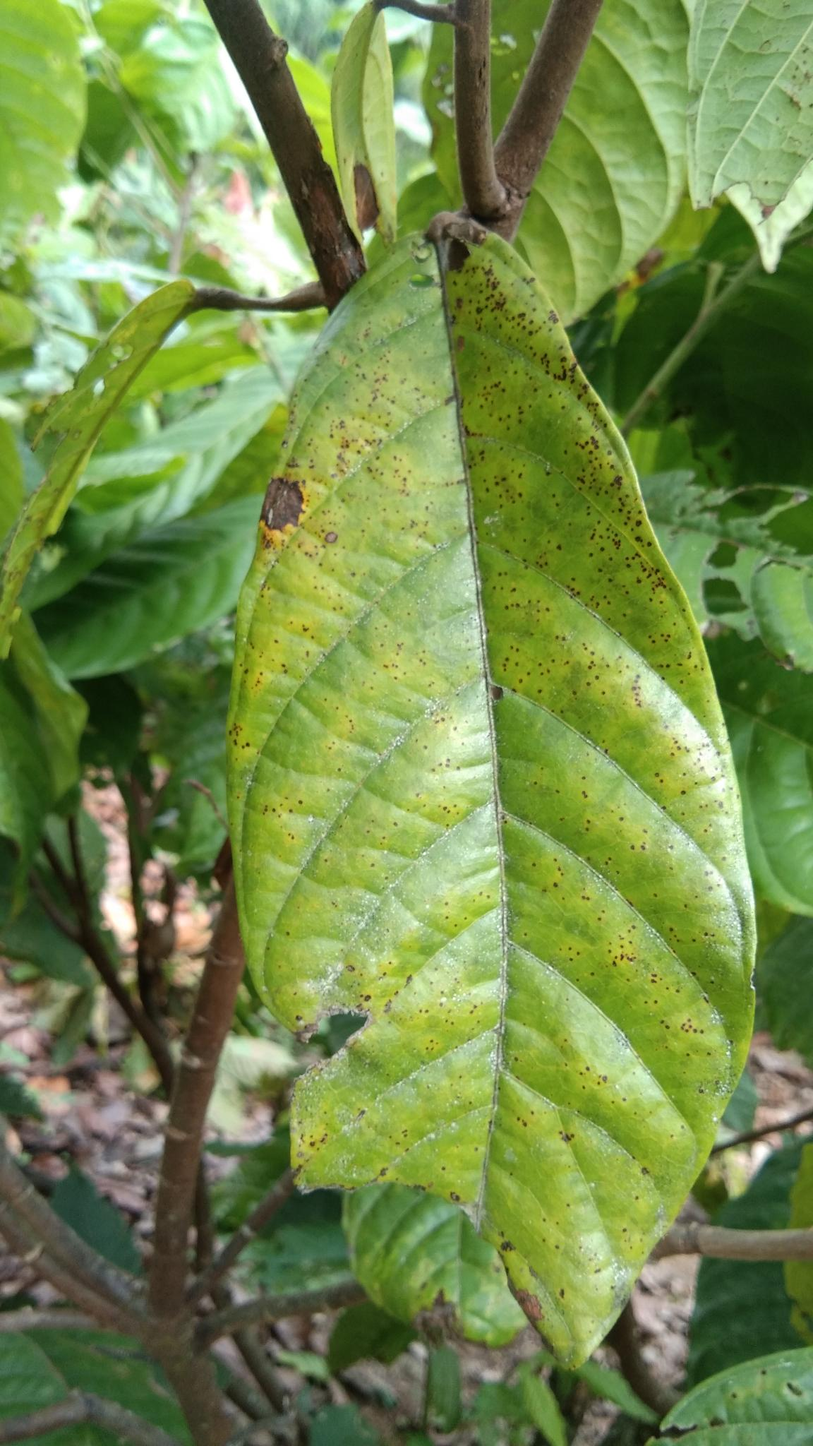Fosforo: (210, 196, 786, 1376)
